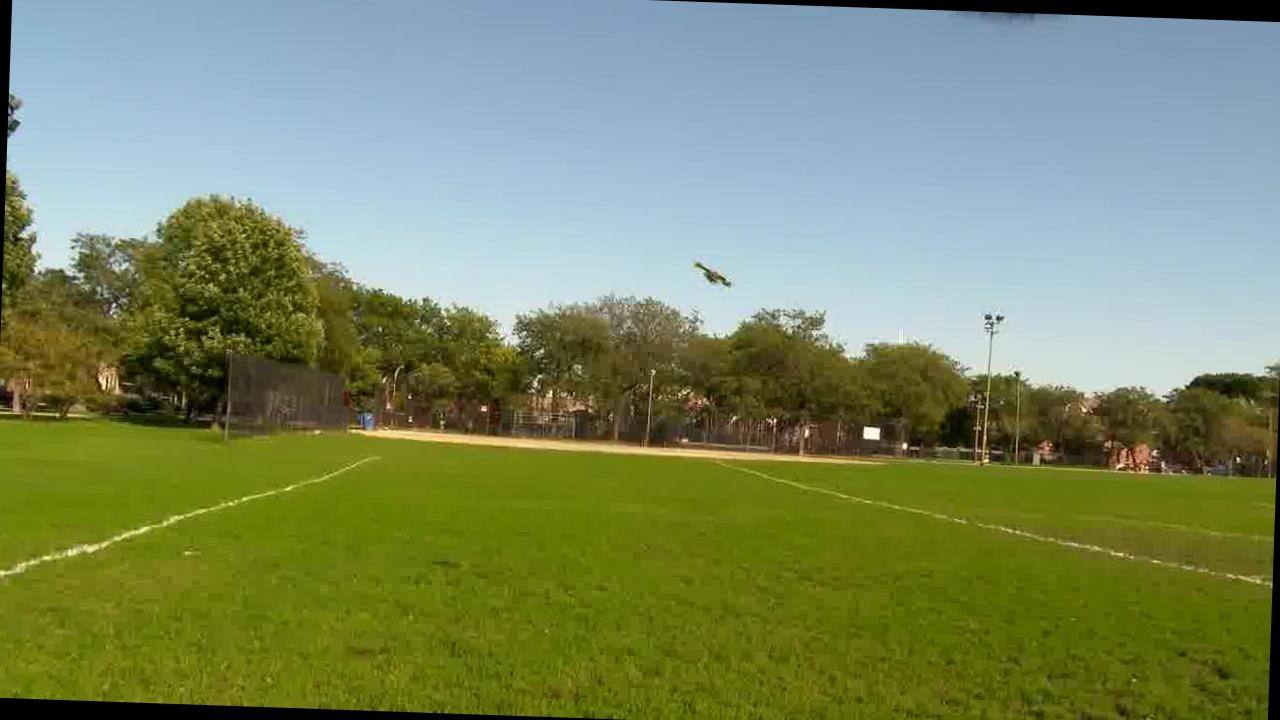drone: (686, 242, 744, 294)
